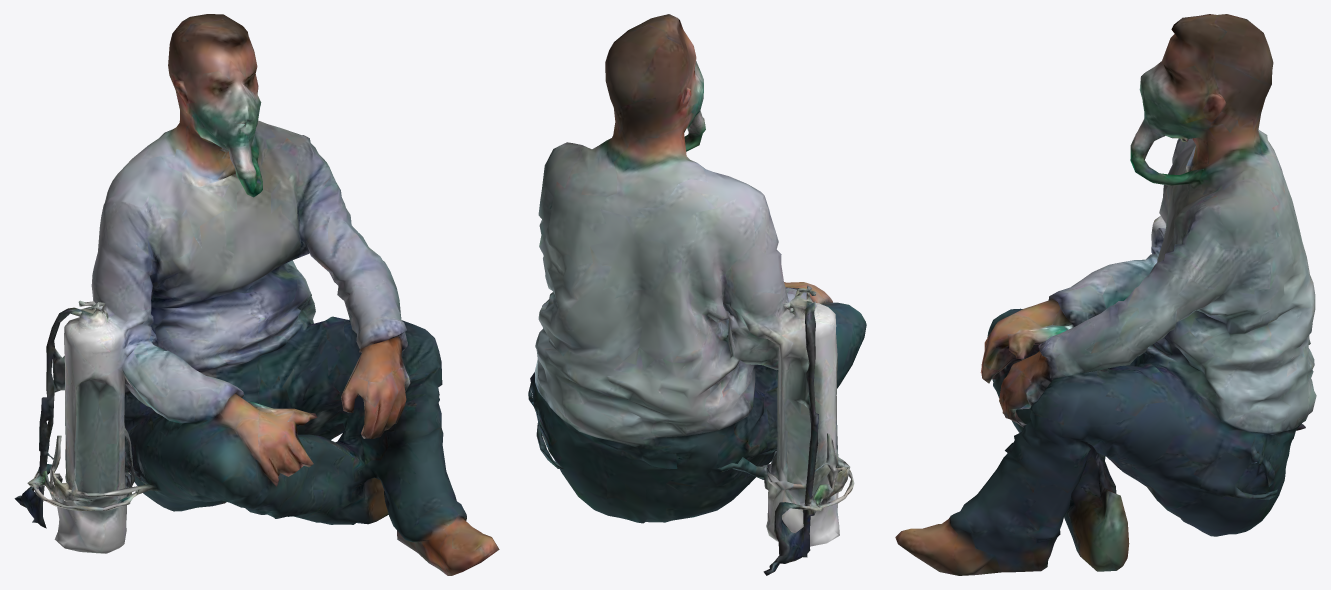
The model's file is OxygenTheraphy.glb.
The picture shows the model from 3 angles, left to right: view 1: azimuth 30°, elevation 25°; view 2: azimuth 150°, elevation 25°; view 3: azimuth 270°, elevation 25°; orthographic projection. The views are drawn at different scales.
Visible parts, largest first — view 1: OxygenTheraphy; view 2: OxygenTheraphy; view 3: OxygenTheraphy.
Boxes of the visible parts, left/top/right/bottom form: OxygenTheraphy: left=14, top=14, right=499, bottom=575; OxygenTheraphy: left=528, top=14, right=866, bottom=575; OxygenTheraphy: left=895, top=14, right=1316, bottom=575.
Bounding box in the file's own units: 0.6764 × 0.9398 × 0.7272.
Materials: 1 (1 with a texture image).
